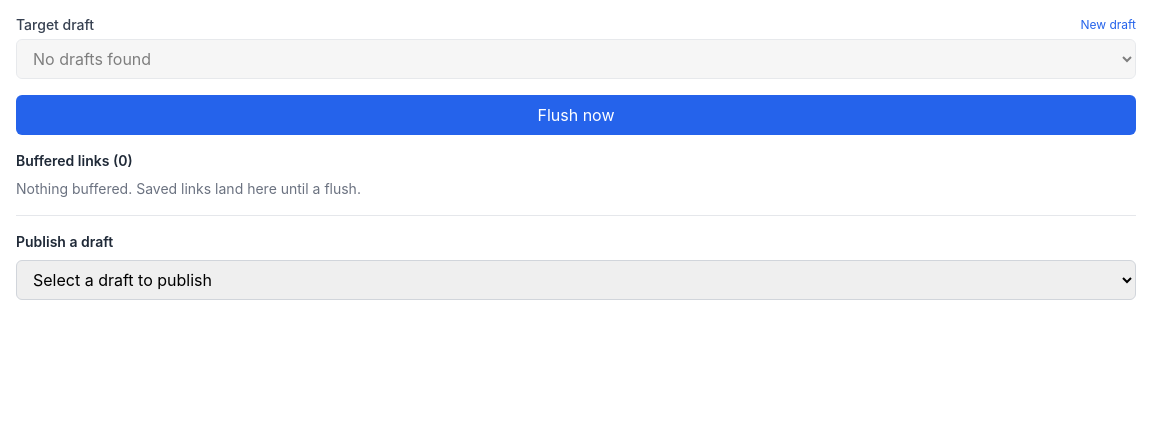
Test case: Queue new draft › reports the path the service sent back, not the preview
The image size is (1152, 437).
Step 1. Click the button "New draft" → (1108, 25), box [1080,17,1136,33]
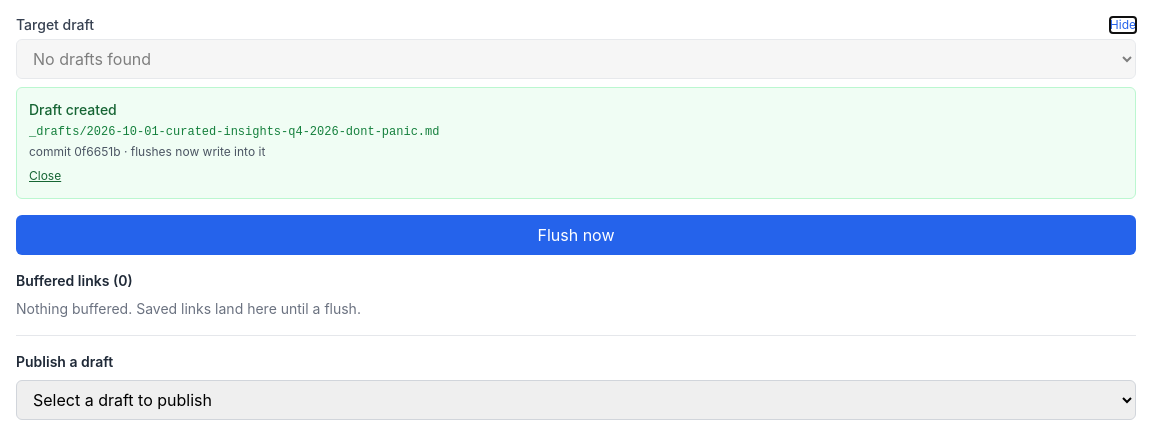
expect the text "Draft created" is shown: met, box [29,101,117,118]
expect the text "commit 0f6651b · flushes now write into it" is shown: met, box [29,144,265,159]
